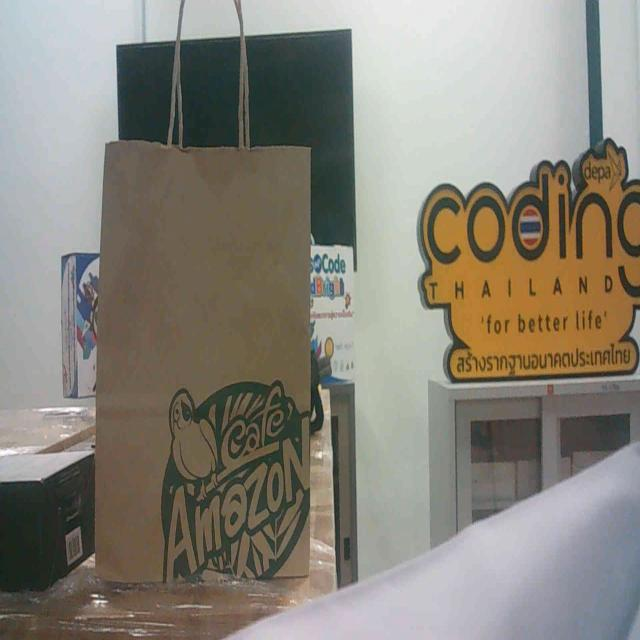bag: (80, 97, 328, 635)
